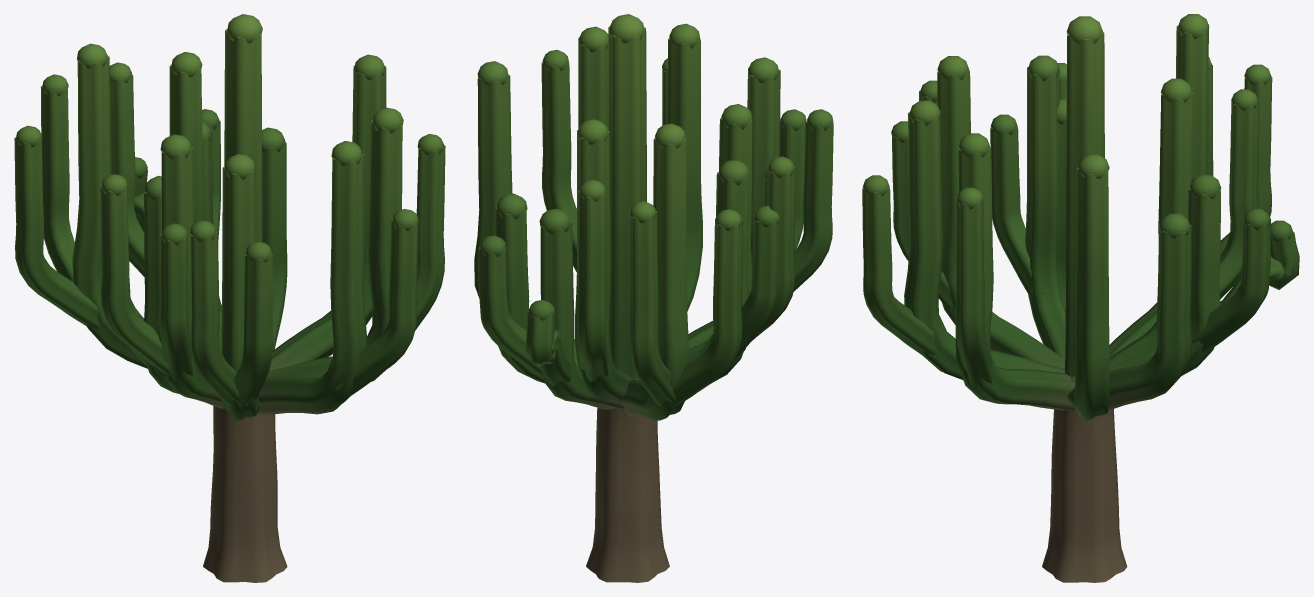
File: candelabra.glb
3 views of the same model, side by side, from view 1: azimuth 30°, elevation 25°; view 2: azimuth 150°, elevation 25°; view 3: azimuth 270°, elevation 25° (orthographic).
Parts seen in each view (by area): view 1: candelabra; view 2: candelabra; view 3: candelabra.
Boxes of the visible parts, bbox=[...] form: candelabra: bbox=[14, 14, 445, 582]; candelabra: bbox=[474, 14, 833, 582]; candelabra: bbox=[862, 14, 1299, 582].
Bounding box in the file's own units: 4.83 × 8.01 × 5.78.
